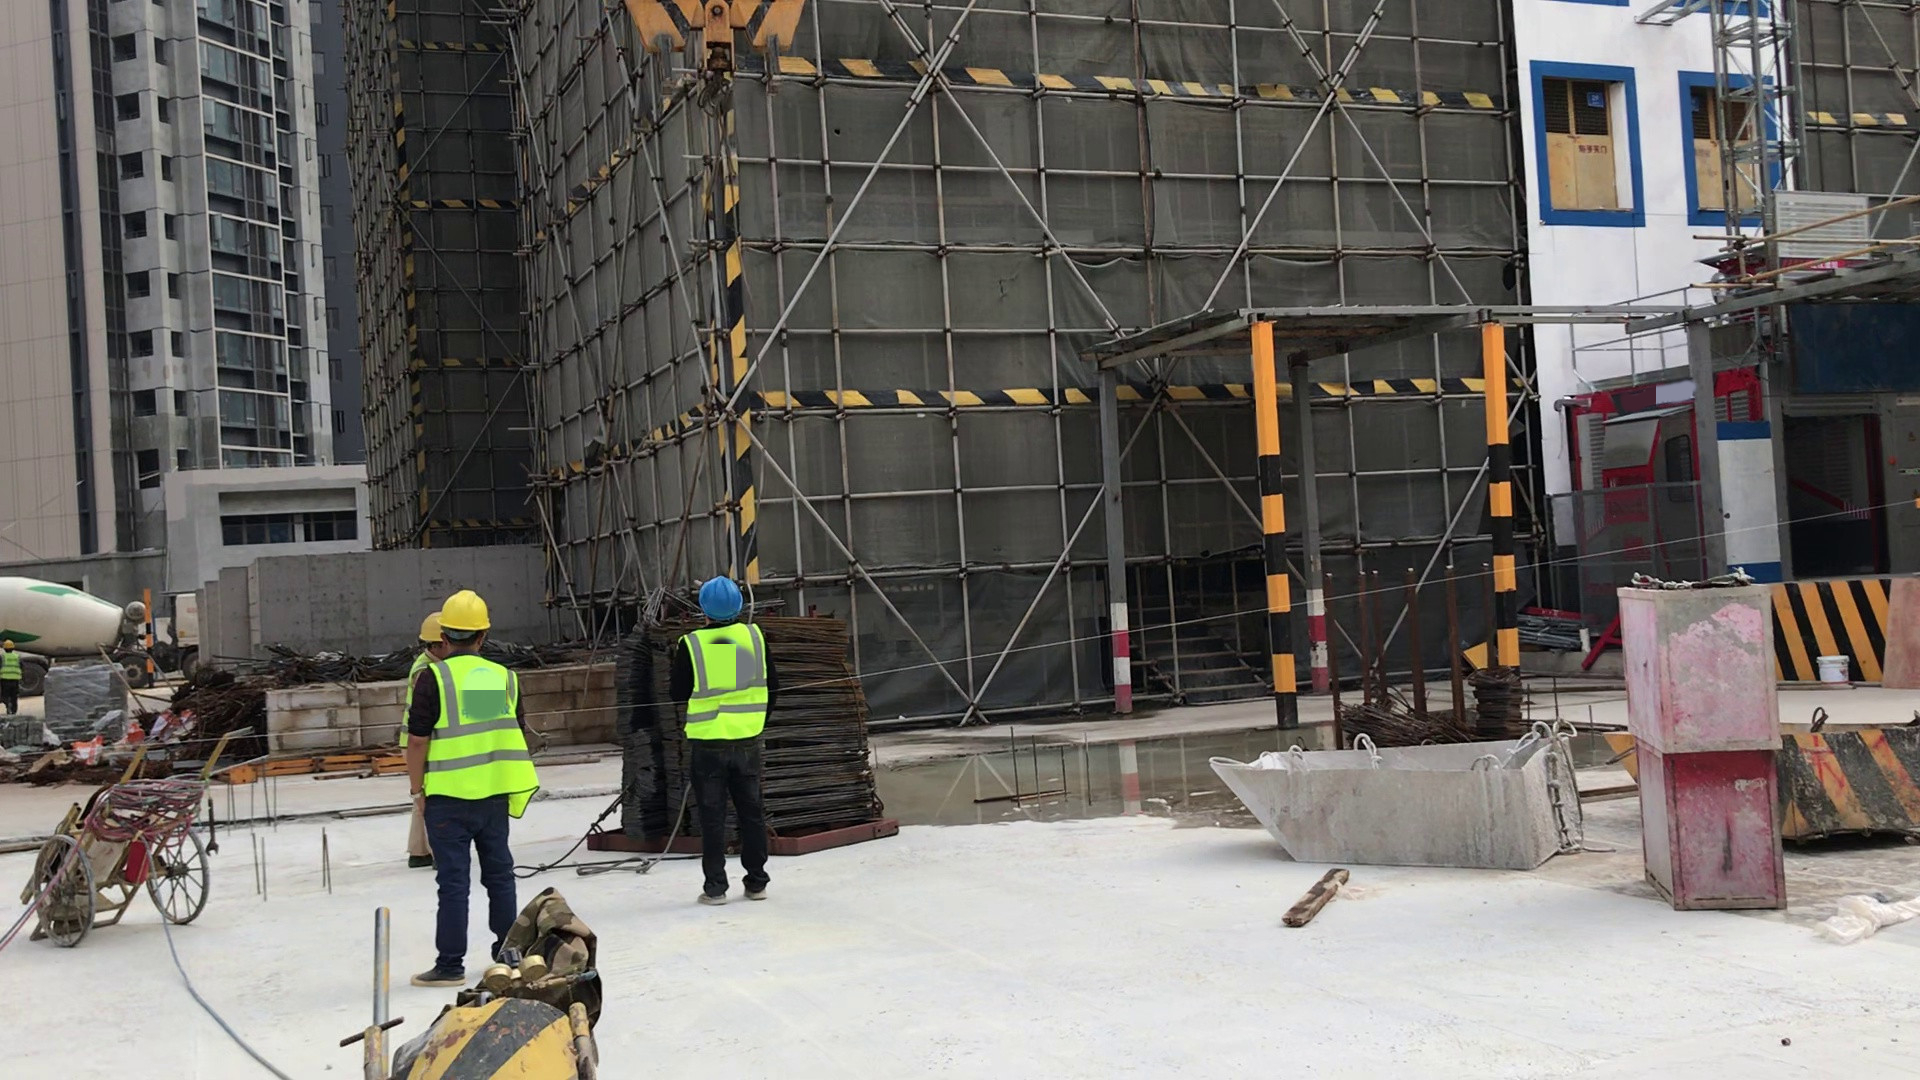helmet: (440, 589, 493, 633), (691, 580, 747, 620), (419, 612, 449, 641), (1, 640, 16, 650)
person: (414, 590, 559, 990), (663, 569, 796, 912), (396, 602, 467, 879), (1, 628, 34, 716)
vest: (430, 660, 531, 818), (682, 627, 766, 738), (397, 655, 429, 747), (1, 652, 19, 683)
